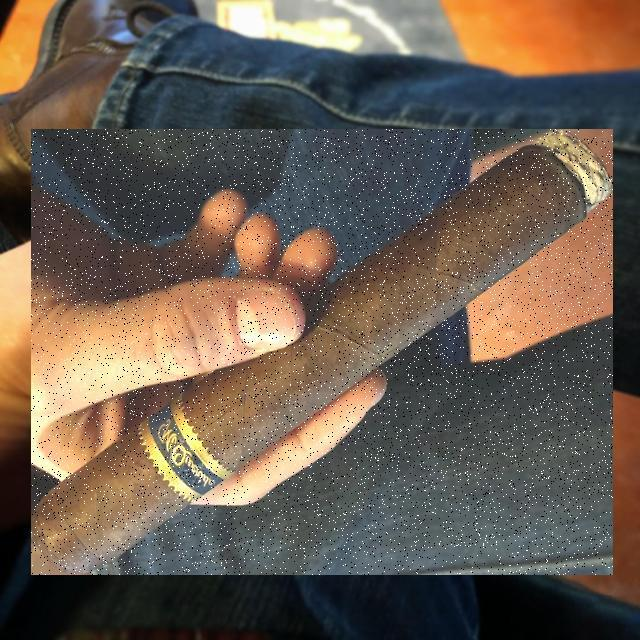smoking: (31, 129, 613, 575)
